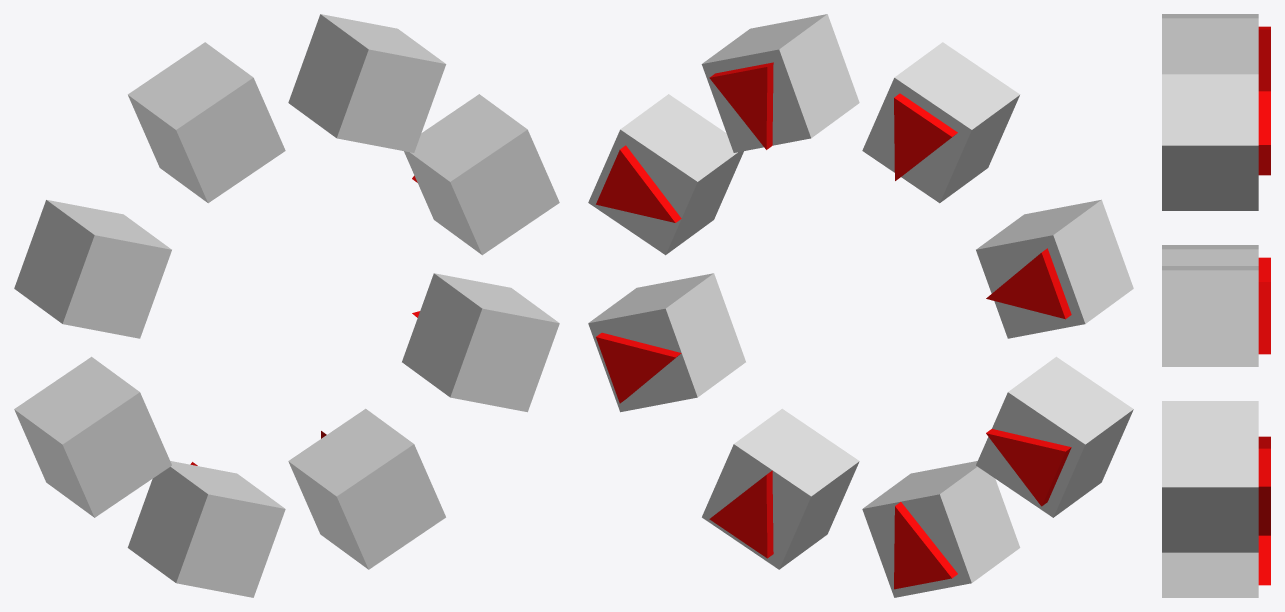
The picture shows the model from 3 angles, left to right: view 1: azimuth 30°, elevation 25°; view 2: azimuth 150°, elevation 25°; view 3: azimuth 270°, elevation 25°; orthographic projection.
Visible parts, largest first — view 1: body0_model0_lod0_mesh1; view 2: body0_model0_lod0_mesh1, body0_model0_lod0_mesh0; view 3: body0_model0_lod0_mesh1, body0_model0_lod0_mesh0.
Part boxes in pixels (box(x1,y1,x2,y2)): body0_model0_lod0_mesh1: box(14, 14, 559, 597); body0_model0_lod0_mesh1: box(588, 14, 1133, 597); body0_model0_lod0_mesh0: box(596, 62, 1071, 589); body0_model0_lod0_mesh1: box(1162, 14, 1258, 597); body0_model0_lod0_mesh0: box(1258, 26, 1270, 585).
Size of the model in its own units: 94.82 by 94.82 by 18.
Materials: 2 (1 with a texture image).
